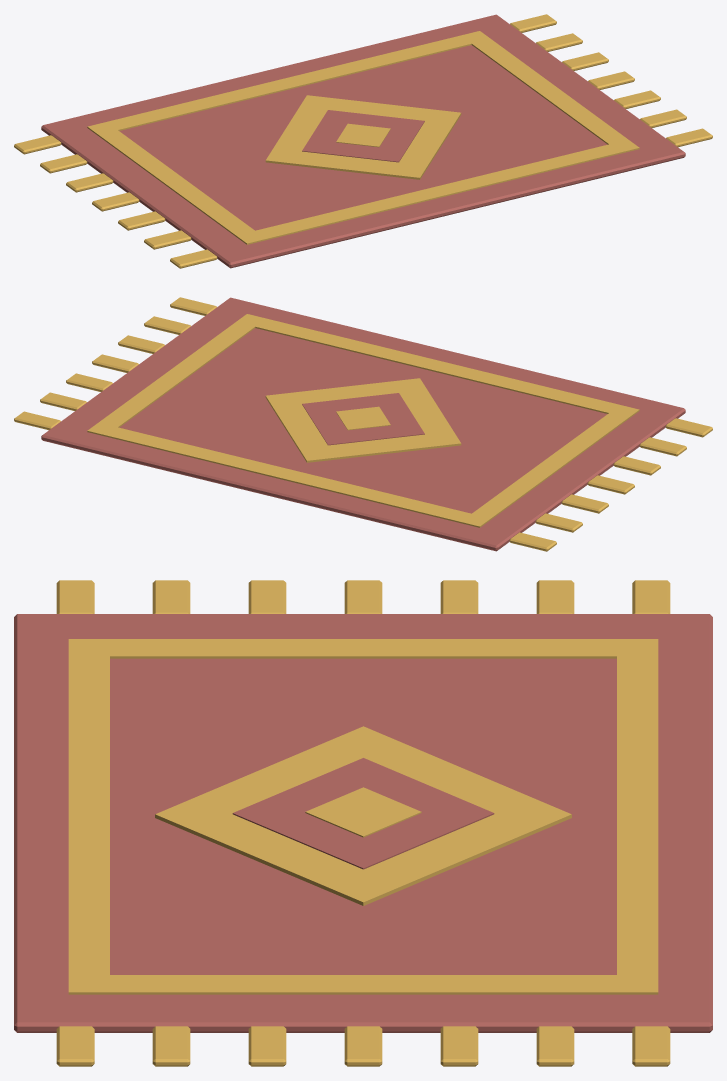
The model's file is BUILD0051_WovenAreaRug.fbx.
3 views of the same model, one above another, from view 1: azimuth 30°, elevation 25°; view 2: azimuth 150°, elevation 25°; view 3: azimuth 270°, elevation 25° (orthographic). The views are drawn at different scales.
Parts seen in each view (by area): view 1: BUILD0051_WovenAreaRug; view 2: BUILD0051_WovenAreaRug; view 3: BUILD0051_WovenAreaRug.
Part boxes in pixels (box(x1,y1,x2,y2)): BUILD0051_WovenAreaRug: box(14, 14, 712, 268); BUILD0051_WovenAreaRug: box(14, 297, 712, 551); BUILD0051_WovenAreaRug: box(14, 580, 712, 1066).
Size of the model in its own units: 3.32 by 0.055 by 2.04.
